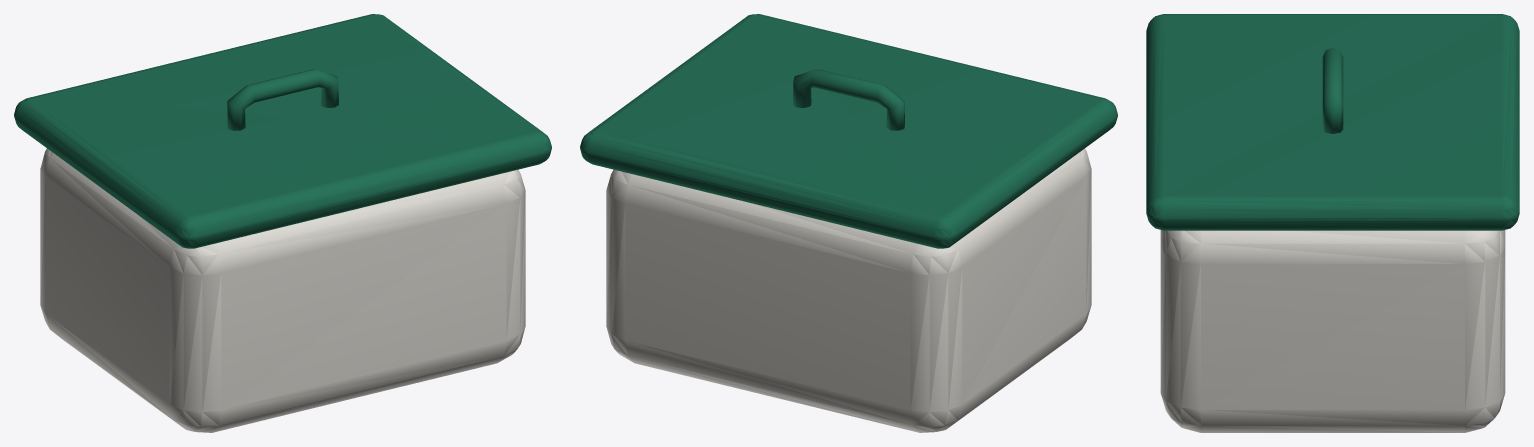
Rendered from kimchi.glb.
3 views of the same model, side by side, from view 1: azimuth 30°, elevation 25°; view 2: azimuth 150°, elevation 25°; view 3: azimuth 270°, elevation 25° (orthographic). The views are drawn at different scales.
Visible parts, largest first — view 1: body, lid, handle; view 2: body, lid, handle; view 3: lid, body, handle.
Part boxes in pixels (x1,y1,x2,y2): body: [40, 148, 525, 432]; lid: [14, 14, 551, 248]; handle: [227, 69, 338, 130]; body: [606, 148, 1091, 432]; lid: [580, 14, 1117, 248]; handle: [793, 69, 904, 130]; lid: [1146, 14, 1519, 230]; body: [1160, 230, 1505, 432]; handle: [1322, 47, 1343, 133].
Size of the model in its own units: 0.8 by 0.5579 by 0.65.
